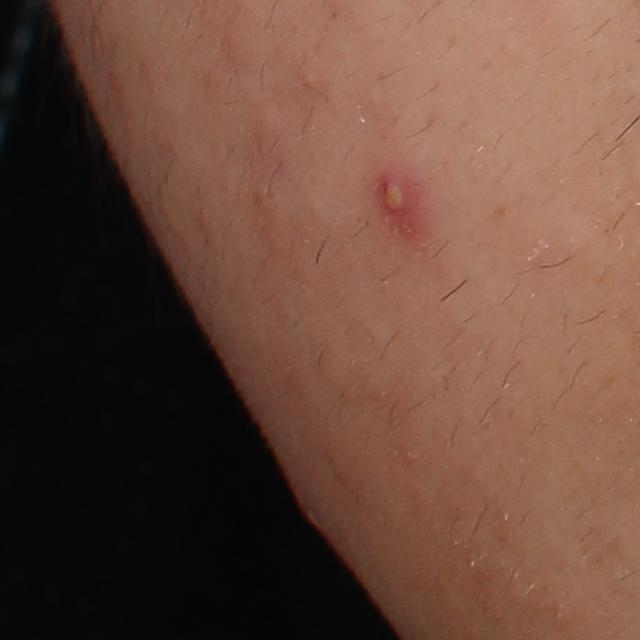pustule: (372, 164, 418, 222)
